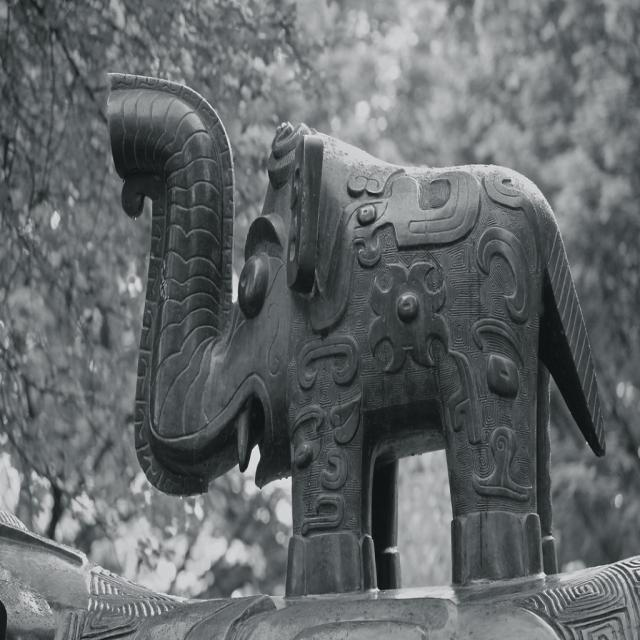elephant: (63, 88, 604, 590)
